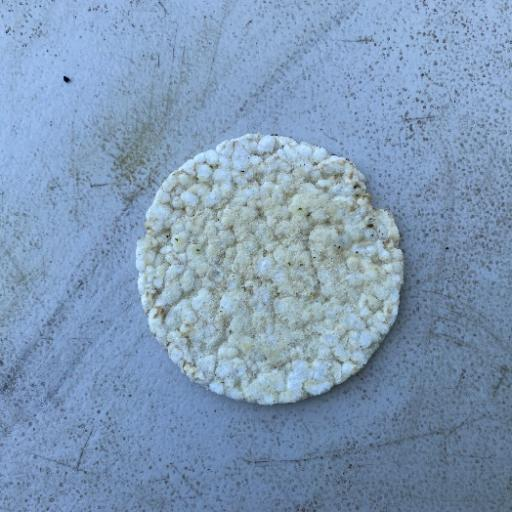Waste: (134, 131, 405, 406)
